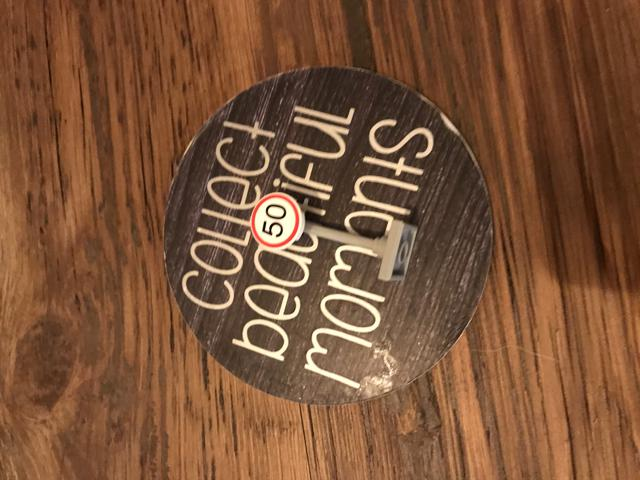tempolimit 50: (251, 191, 302, 249)
